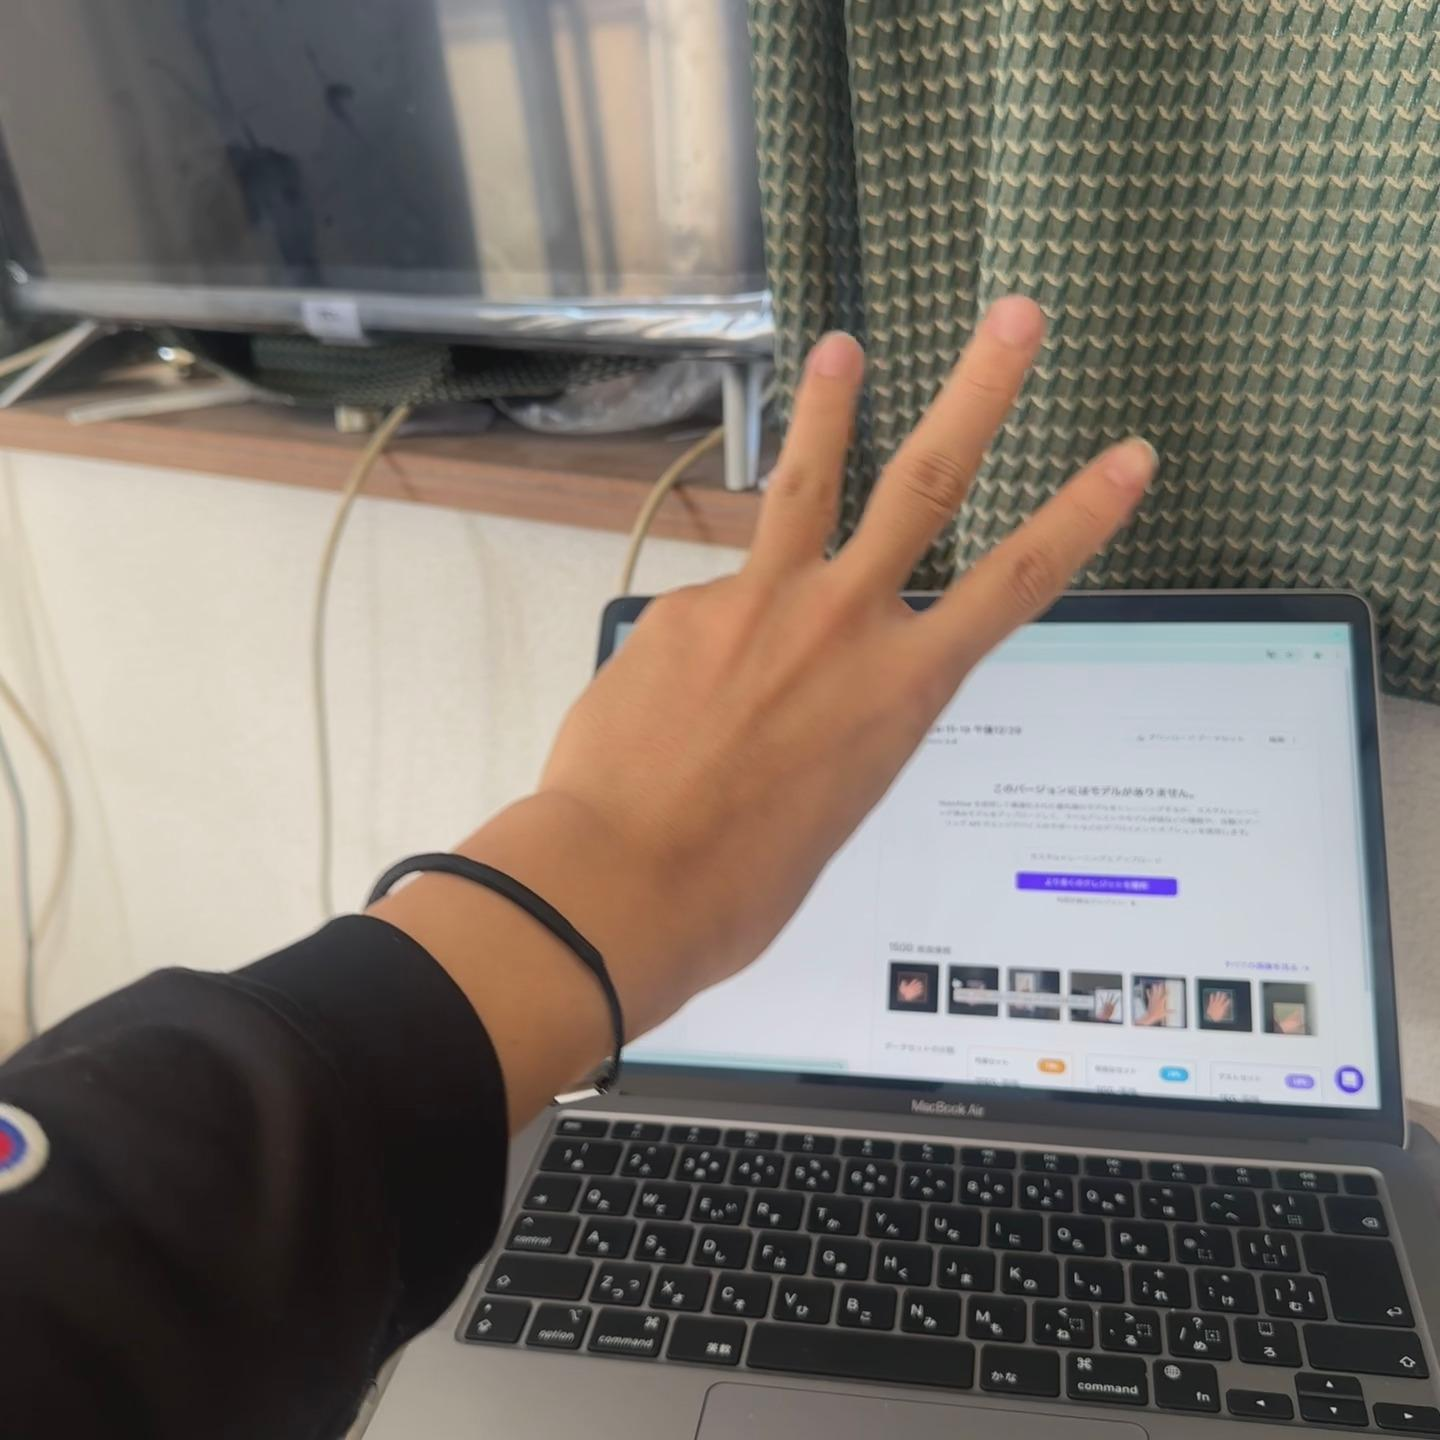without_gloves: (514, 224, 1270, 1040)
